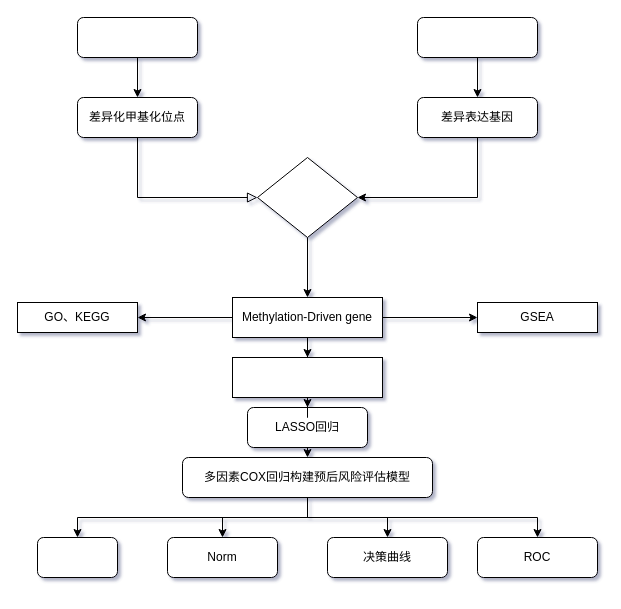
The diagram is 621 pixels wide and 609 high, and some of its shapes have lost their labels. Here are the shapes that lost their labels. From the top down, the centre of each, then its label:
(x=137, y=37): 甲基化表达矩阵
(x=477, y=37): 基因表达矩阵
(x=307, y=197): 相关性分析 r、p值
(x=307, y=377): 单因素COX回归
(x=77, y=557): K-M分析
